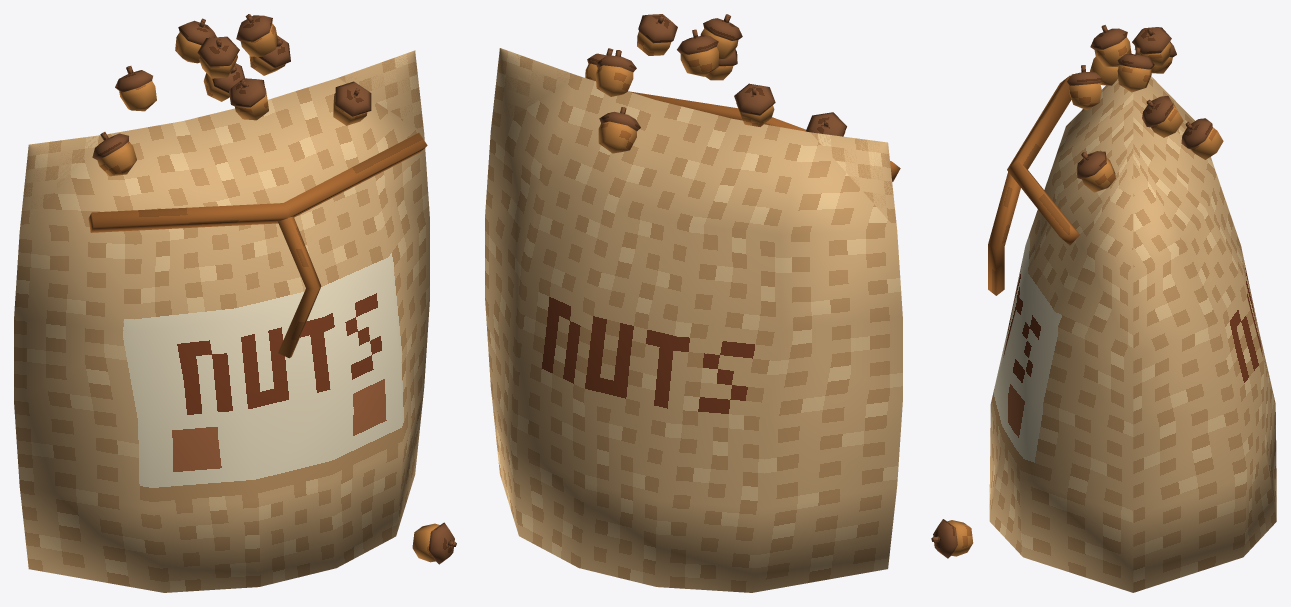
The model's file is Nut Sack.fbx.
The picture shows the model from 3 angles, left to right: view 1: azimuth 30°, elevation 25°; view 2: azimuth 150°, elevation 25°; view 3: azimuth 270°, elevation 25°; orthographic projection. The views are drawn at different scales.
Parts seen in each view (by area): view 1: Nut Sack sack, Nut Sack twine, Nut Sack twine tail, Nut Sack acorn 8 cap, Nut Sack acorn 6 cap, Nut Sack acorn 5 nut, Nut Sack acorn 7 cap, Nut Sack acorn 4 nut, Nut Sack loose acorn cap, Nut Sack acorn 0 cap, Nut Sack acorn 0 nut, Nut Sack loose acorn nut (+1 smaller); view 2: Nut Sack sack, Nut Sack twine, Nut Sack acorn 2 nut, Nut Sack acorn 1 nut, Nut Sack acorn 4 cap, Nut Sack acorn 0 cap, Nut Sack acorn 3 nut, Nut Sack acorn 5 cap, Nut Sack acorn 6 cap, Nut Sack acorn 3 cap; view 3: Nut Sack sack, Nut Sack twine, Nut Sack twine tail, Nut Sack acorn 3 cap, Nut Sack acorn 0 nut, Nut Sack acorn 7 nut, Nut Sack loose acorn cap, Nut Sack acorn 1 cap, Nut Sack acorn 2 cap, Nut Sack acorn 6 nut, Nut Sack acorn 8 nut, Nut Sack acorn 8 cap (+5 smaller).
Boxes of the visible parts, bbox=[...] form: Nut Sack sack: bbox=[14, 50, 429, 592]; Nut Sack twine: bbox=[88, 133, 427, 232]; Nut Sack twine tail: bbox=[278, 216, 321, 358]; Nut Sack acorn 8 cap: bbox=[335, 81, 371, 116]; Nut Sack acorn 6 cap: bbox=[197, 36, 239, 66]; Nut Sack acorn 5 nut: bbox=[97, 141, 136, 176]; Nut Sack acorn 7 cap: bbox=[229, 78, 265, 107]; Nut Sack acorn 4 nut: bbox=[119, 81, 156, 111]; Nut Sack loose acorn cap: bbox=[428, 522, 454, 564]; Nut Sack acorn 0 cap: bbox=[236, 15, 272, 41]; Nut Sack acorn 0 nut: bbox=[240, 23, 277, 56]; Nut Sack loose acorn nut: bbox=[412, 523, 439, 562]; Nut Sack sack: bbox=[485, 48, 902, 592]; Nut Sack twine: bbox=[628, 91, 900, 181]; Nut Sack acorn 2 nut: bbox=[598, 121, 636, 153]; Nut Sack acorn 1 nut: bbox=[595, 65, 633, 96]; Nut Sack acorn 4 cap: bbox=[734, 83, 775, 115]; Nut Sack acorn 0 cap: bbox=[638, 14, 677, 43]; Nut Sack acorn 3 nut: bbox=[680, 47, 718, 76]; Nut Sack acorn 5 cap: bbox=[805, 112, 846, 136]; Nut Sack acorn 6 cap: bbox=[703, 18, 742, 40]; Nut Sack acorn 3 cap: bbox=[677, 35, 718, 54]; Nut Sack sack: bbox=[989, 76, 1276, 592]; Nut Sack twine: bbox=[1007, 75, 1079, 245]; Nut Sack twine tail: bbox=[988, 172, 1020, 295]; Nut Sack acorn 3 cap: bbox=[1132, 27, 1171, 54]; Nut Sack acorn 0 nut: bbox=[1117, 65, 1151, 92]; Nut Sack acorn 7 nut: bbox=[1069, 83, 1101, 110]; Nut Sack loose acorn cap: bbox=[933, 519, 957, 558]; Nut Sack acorn 1 cap: bbox=[1142, 95, 1173, 127]; Nut Sack acorn 2 cap: bbox=[1181, 118, 1212, 149]; Nut Sack acorn 6 nut: bbox=[1094, 37, 1131, 66]; Nut Sack acorn 8 nut: bbox=[1082, 157, 1115, 192]; Nut Sack acorn 8 cap: bbox=[1076, 151, 1106, 179].
Bounding box in the file's own units: 0.4304 × 0.4934 × 0.3279.
Materials: 4 (4 with a texture image).
